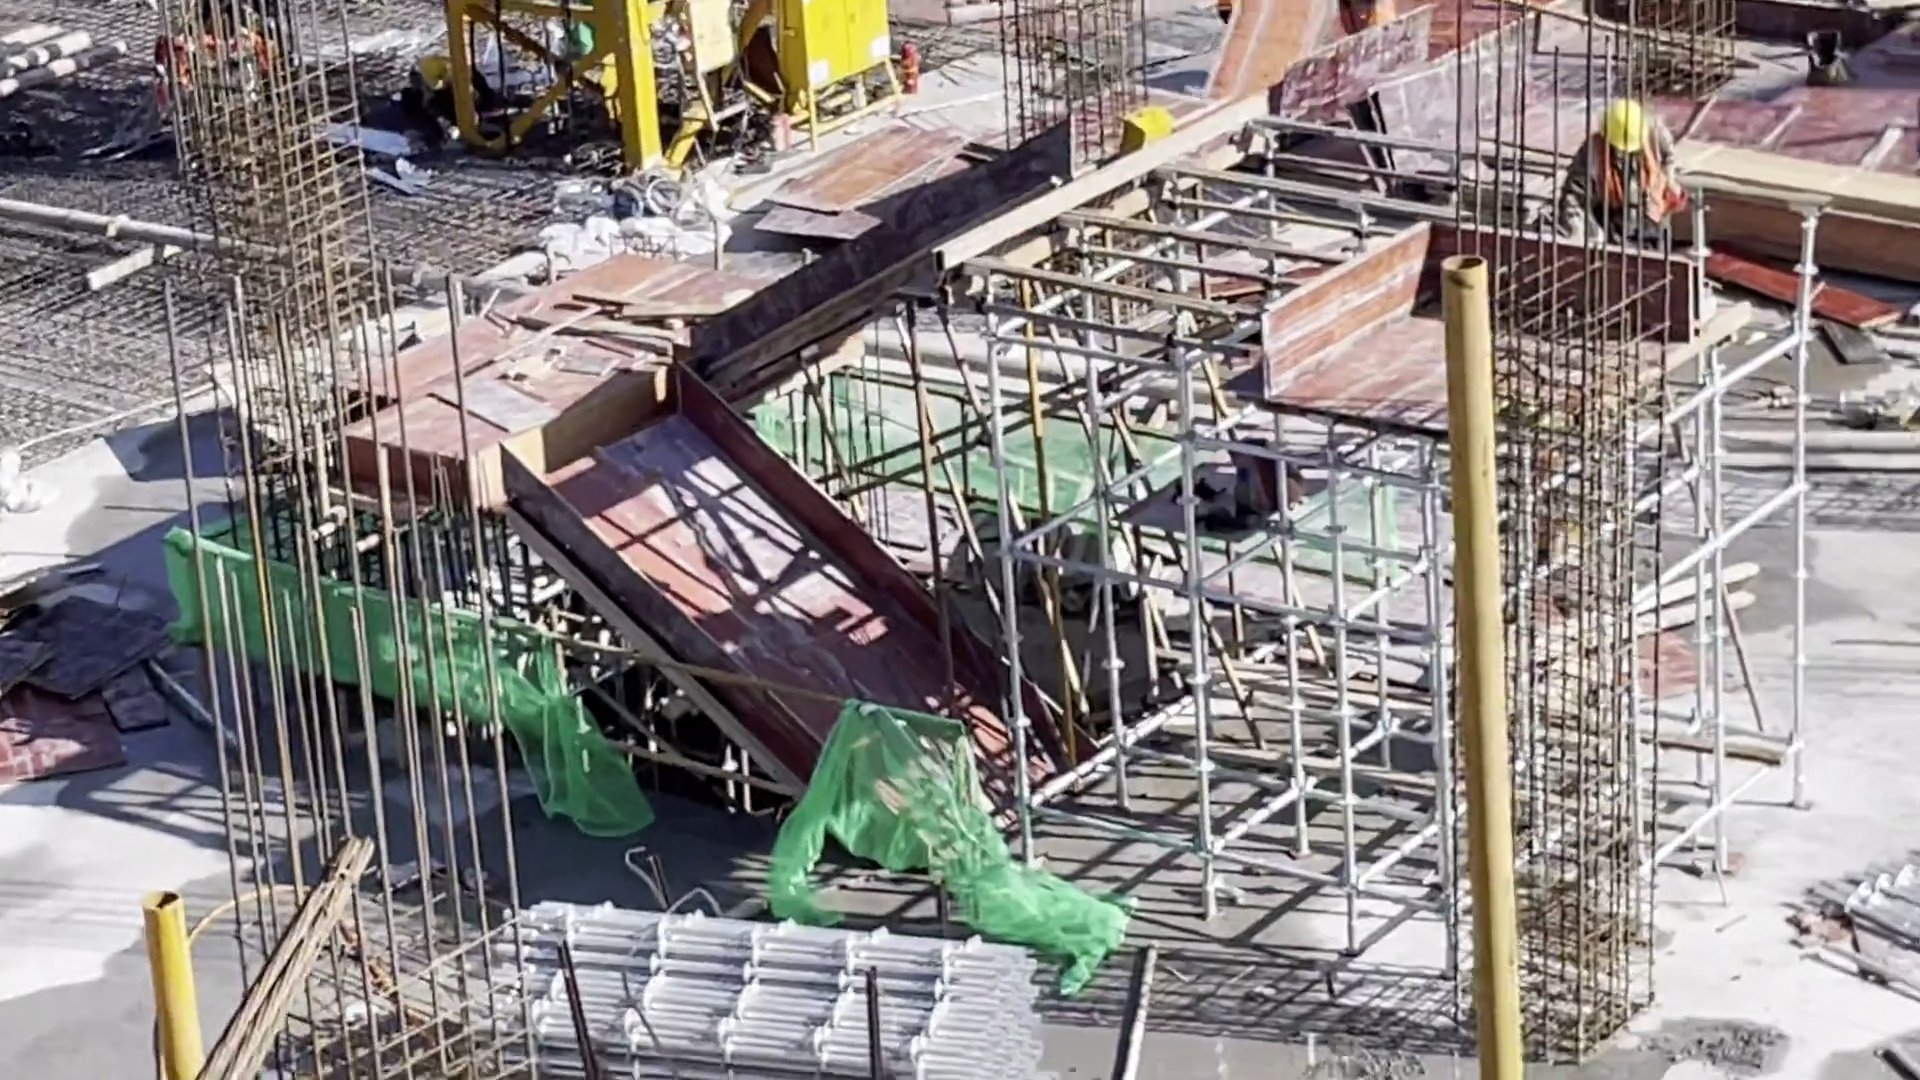ebox: (773, 3, 906, 140)
helmet: (1603, 101, 1654, 153)
person: (1556, 93, 1689, 248), (400, 50, 487, 131), (420, 56, 448, 88)
scaffold: (489, 900, 1043, 1076)
vest: (1584, 135, 1674, 219)
